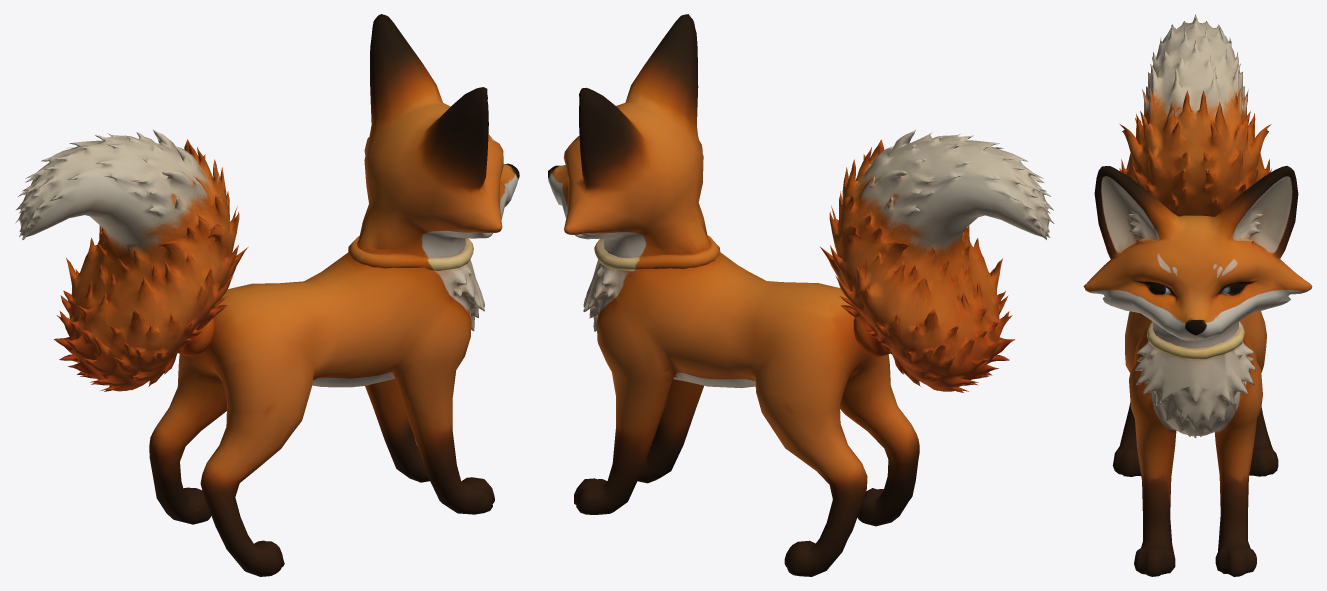
File: r33-fox.glb
3 renders of one model, left to right at view 1: azimuth 30°, elevation 25°; view 2: azimuth 150°, elevation 25°; view 3: azimuth 270°, elevation 25°, orthographic. The views are drawn at different scales.
Visible parts, largest first — view 1: tripo_node_605a7d6e-0989-471d-bea5-2c93985f34e3; view 2: tripo_node_605a7d6e-0989-471d-bea5-2c93985f34e3; view 3: tripo_node_605a7d6e-0989-471d-bea5-2c93985f34e3.
Boxes of the visible parts, bbox=[...] form: tripo_node_605a7d6e-0989-471d-bea5-2c93985f34e3: bbox=[15, 14, 519, 576]; tripo_node_605a7d6e-0989-471d-bea5-2c93985f34e3: bbox=[548, 14, 1054, 576]; tripo_node_605a7d6e-0989-471d-bea5-2c93985f34e3: bbox=[1083, 14, 1312, 576].
Size of the model in its own units: 0.998 by 0.8496 by 0.4434.
1 material, 1 textured.
